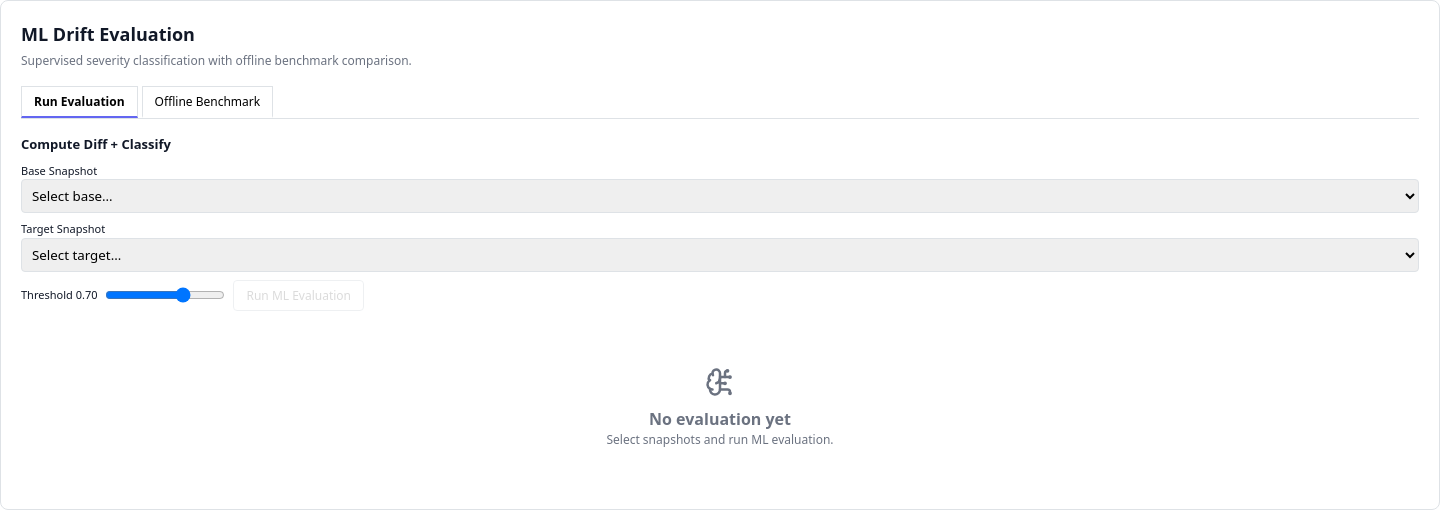
Test case: MLPage › renders benchmark tab with per-class metrics
This screenshot has width=1440, height=527.
Click the button "Offline Benchmark": x=207, y=102 left=142, top=86, right=273, bottom=118
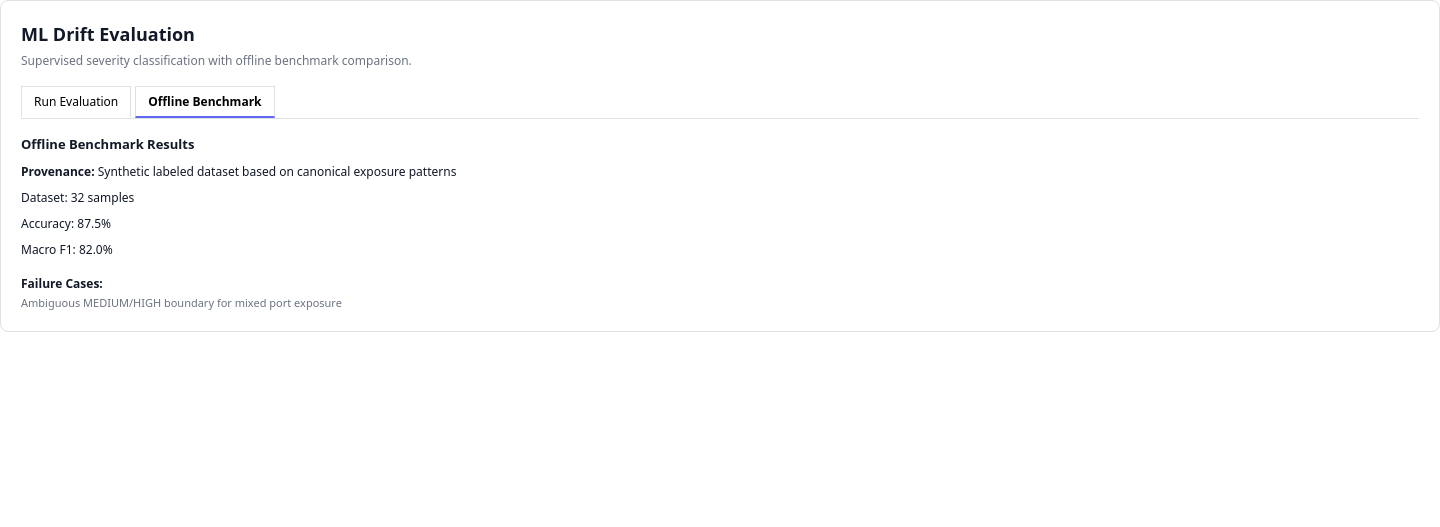
Expected: the text "Accuracy: 87.5%" is shown, left=21, top=214, right=111, bottom=232
